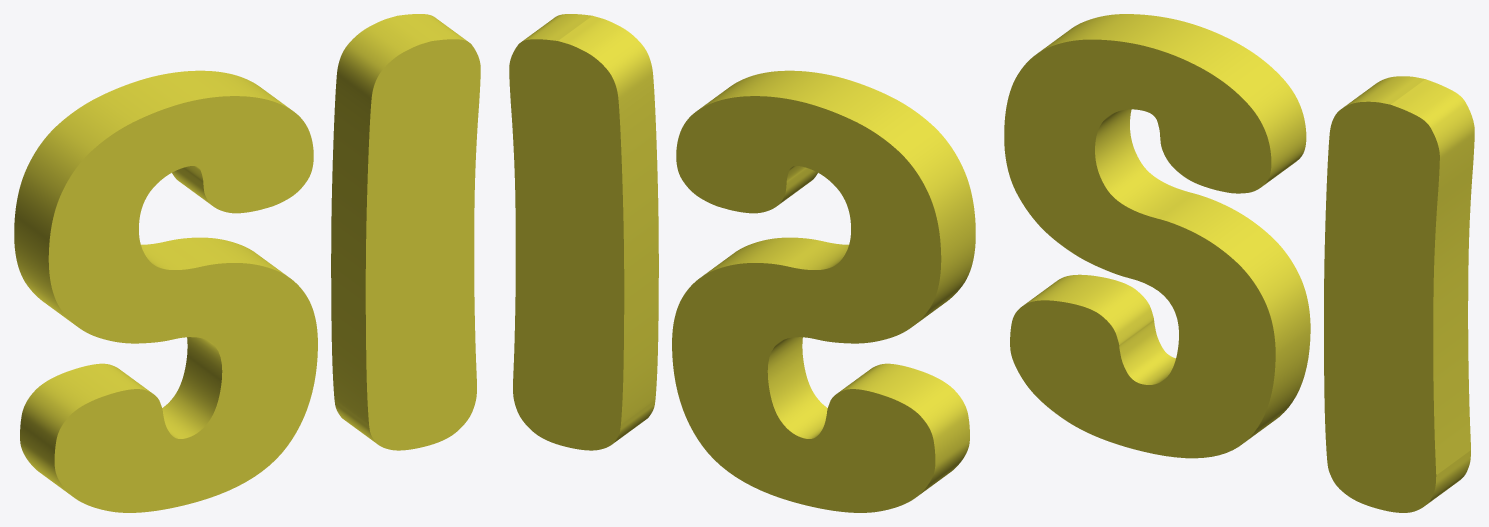
3 renders of one model, left to right at view 1: azimuth 30°, elevation 25°; view 2: azimuth 150°, elevation 25°; view 3: azimuth 330°, elevation 25°, orthographic.
Parts seen in each view (by area): view 1: Text.002; view 2: Text.002; view 3: Text.002.
Boxes of the visible parts, bbox=[...] form: Text.002: bbox=[14, 14, 480, 512]; Text.002: bbox=[509, 14, 975, 512]; Text.002: bbox=[1004, 14, 1474, 512].
Size of the model in its own units: 3.45 by 3.08 by 0.4791.
